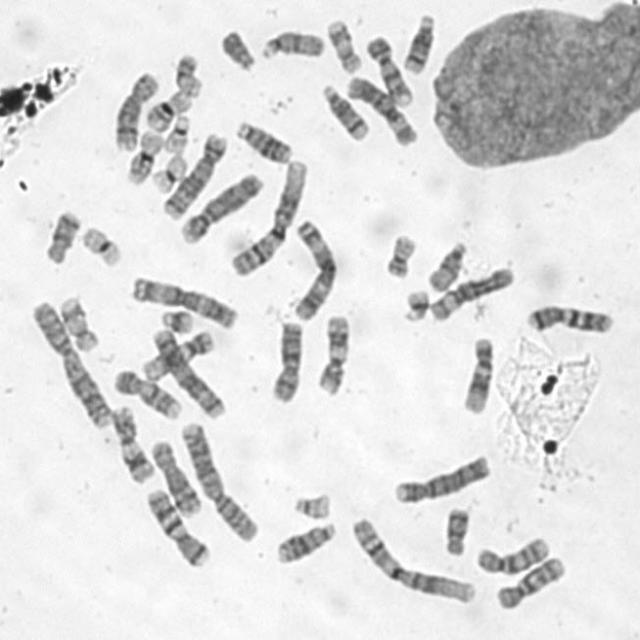A1: (348, 514, 476, 606), (227, 156, 310, 278)
A2: (28, 296, 114, 431), (177, 419, 261, 544)
A3: (126, 272, 240, 330), (288, 216, 339, 320)
B4: (176, 169, 264, 246), (390, 449, 492, 505)
B5: (149, 324, 227, 420), (160, 129, 230, 220)
C10: (491, 552, 568, 612), (472, 533, 552, 577)
C11: (110, 402, 156, 484), (313, 311, 351, 397)
C12: (139, 327, 216, 382), (459, 333, 496, 415)
C6: (343, 72, 419, 148), (426, 262, 516, 324)
C7: (142, 484, 212, 570), (522, 301, 614, 335)
C8: (146, 437, 202, 518), (110, 67, 162, 153)
C9: (110, 365, 184, 421), (364, 33, 415, 108)
D13: (272, 519, 338, 566), (233, 116, 293, 165)
D14: (319, 82, 370, 142), (398, 10, 436, 76)
D15: (424, 238, 469, 295), (257, 28, 327, 62)
E16: (122, 124, 164, 188), (142, 86, 196, 131)
E17: (56, 292, 101, 354), (324, 16, 363, 74)
E18: (41, 205, 83, 266), (440, 502, 472, 556)
F19: (78, 223, 124, 269), (149, 150, 189, 195)
F20: (382, 230, 418, 279), (172, 54, 203, 96)
G21: (400, 286, 431, 324), (157, 306, 195, 335)
G22: (160, 111, 193, 155), (290, 490, 334, 520)
X: (266, 317, 304, 403)
Y: (218, 26, 258, 73)
